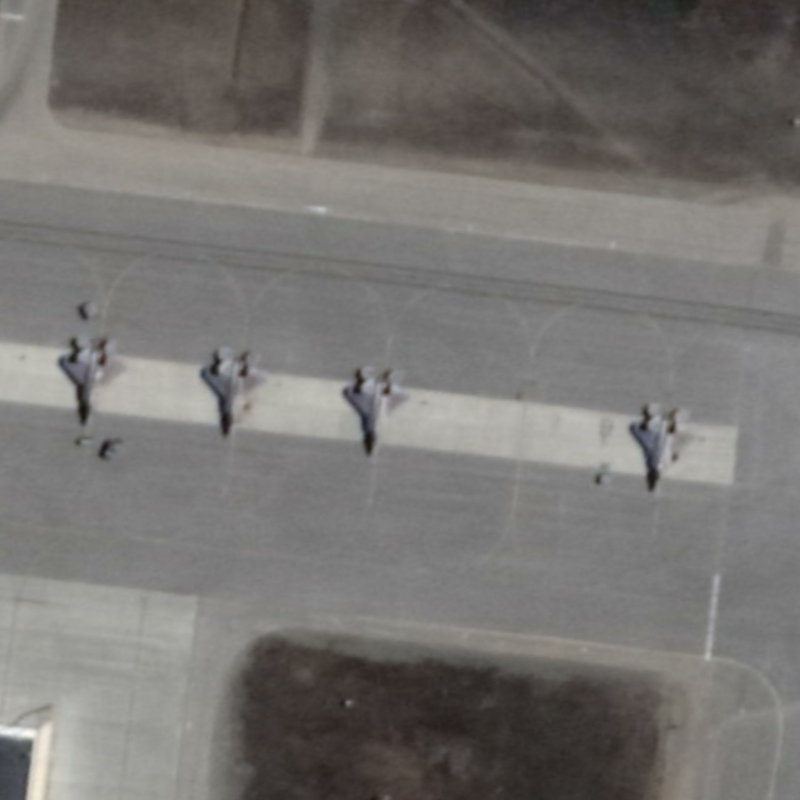A15: (191, 337, 281, 446), (330, 362, 418, 466), (50, 325, 131, 437), (623, 391, 702, 503)
